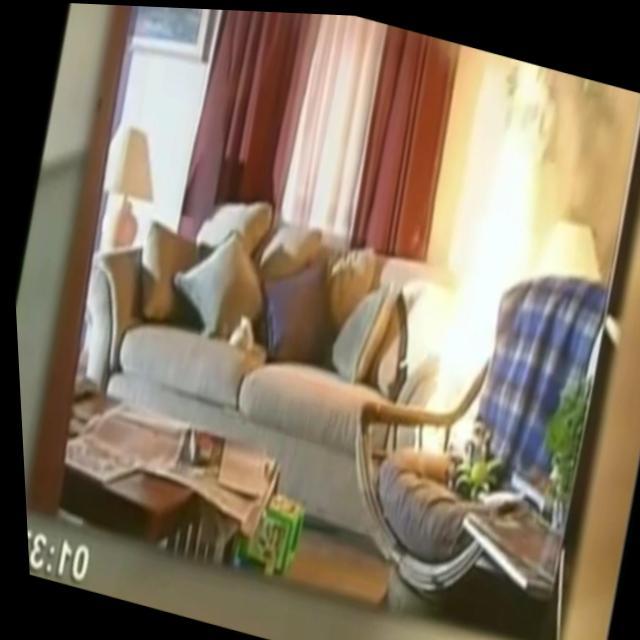fire: (380, 52, 586, 470)
